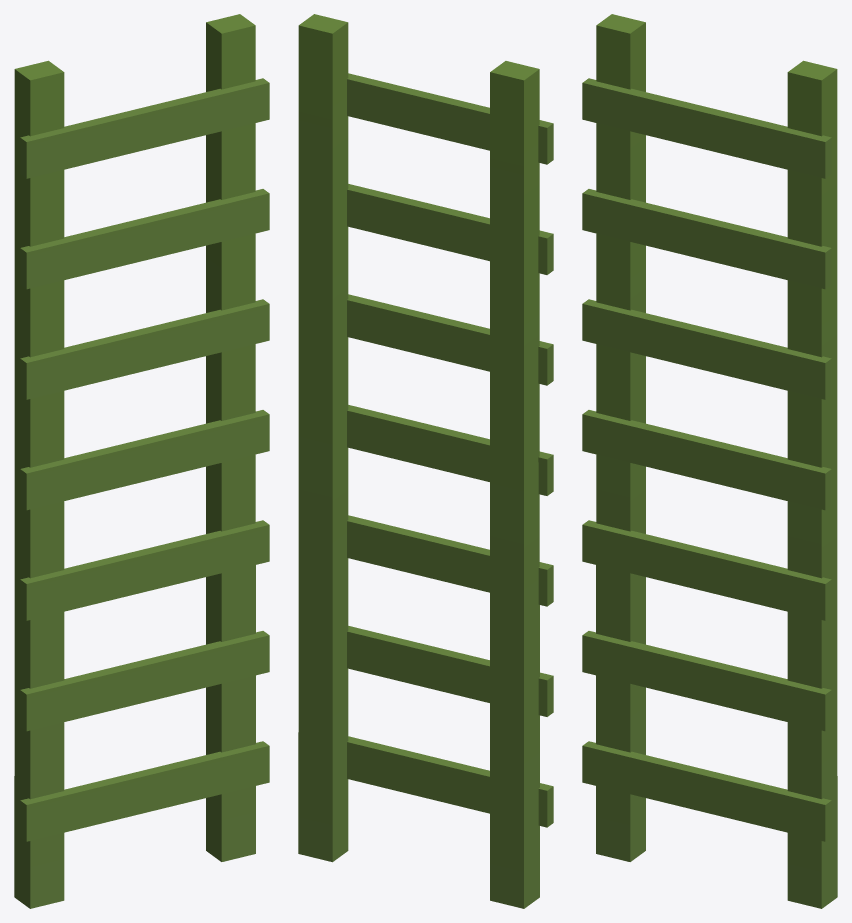
The model's file is Stairs_01.fbx.
3 views of the same model, side by side, from view 1: azimuth 30°, elevation 25°; view 2: azimuth 150°, elevation 25°; view 3: azimuth 330°, elevation 25° (orthographic).
Visible parts, largest first — view 1: Stairs_01; view 2: Stairs_01; view 3: Stairs_01.
Boxes of the visible parts, bbox=[...] form: Stairs_01: bbox=[14, 14, 269, 908]; Stairs_01: bbox=[298, 14, 553, 908]; Stairs_01: bbox=[582, 14, 837, 908].
Bounding box in the file's own units: 0.5923 × 1.93 × 0.0874.
